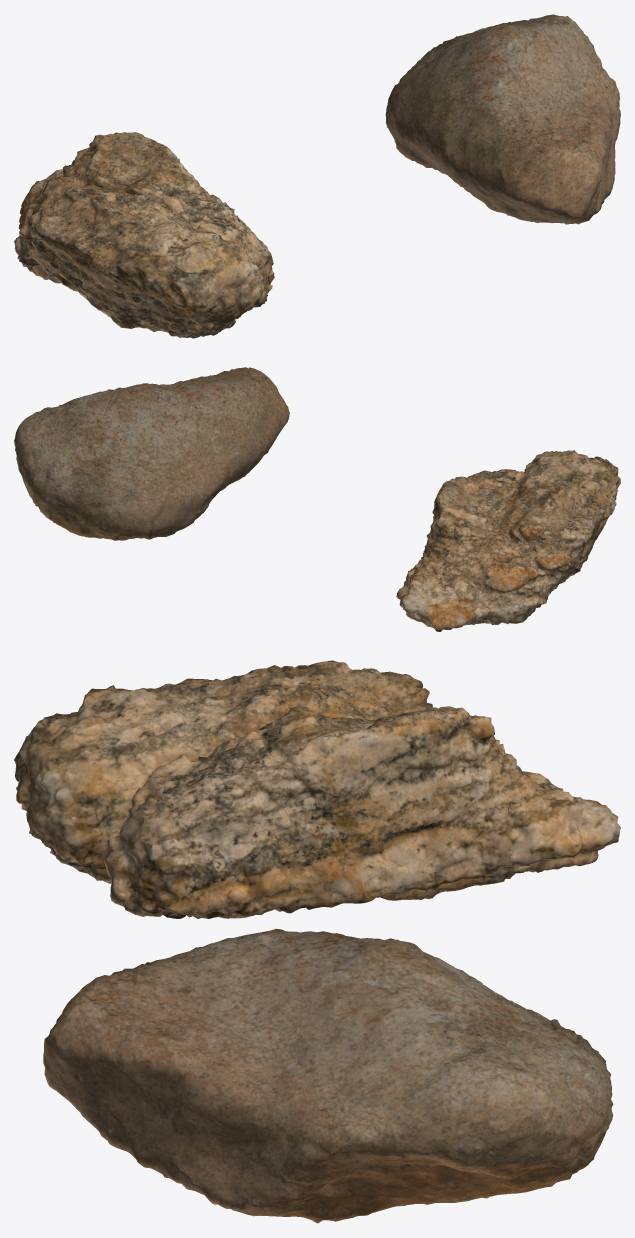
Rendered from namaqualand_boulders_01.glb.
3 views of the same model, one above another, from view 1: azimuth 30°, elevation 25°; view 2: azimuth 150°, elevation 25°; view 3: azimuth 270°, elevation 25° (orthographic). The views are drawn at different scales.
Parts seen in each view (by area): view 1: namaqualand_rocks_01_a, namaqualand_rocks_01_b; view 2: namaqualand_rocks_01_a, namaqualand_rocks_01_b; view 3: namaqualand_rocks_01_a, namaqualand_rocks_01_b.
Part boxes in pixels (left/top/right/bottom): namaqualand_rocks_01_a: left=385, top=14, right=620, bottom=224; namaqualand_rocks_01_b: left=14, top=132, right=274, bottom=338; namaqualand_rocks_01_a: left=14, top=367, right=289, bottom=540; namaqualand_rocks_01_b: left=396, top=450, right=620, bottom=631; namaqualand_rocks_01_a: left=43, top=928, right=613, bottom=1223; namaqualand_rocks_01_b: left=14, top=660, right=620, bottom=918.
Size of the model in its own units: 1.06 by 0.2516 by 0.5866.
1 material, 1 textured.
